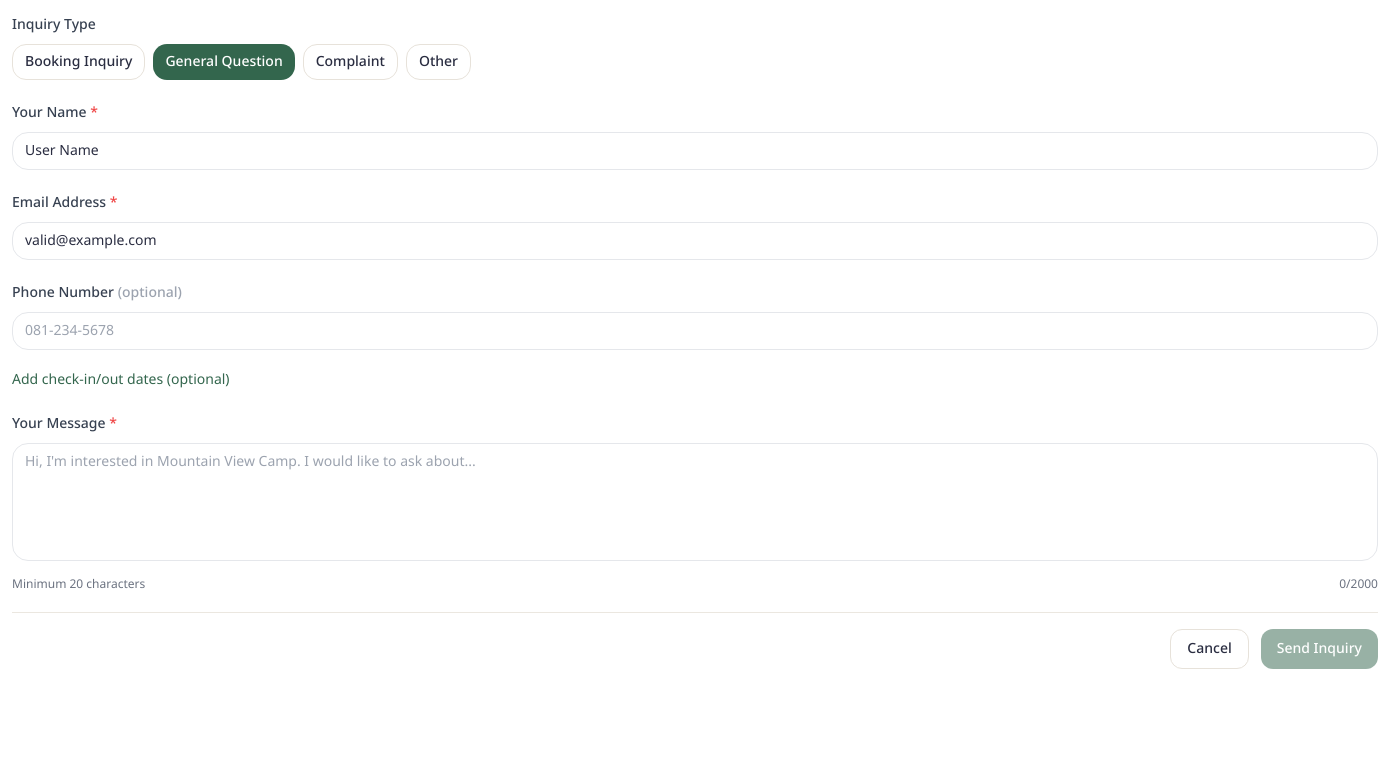
Scenario: InquiryForm - Pre-fill for Logged-in Users › Field editability › should validate edited email field format
// Edit email to invalid format
Replace the text in the field labelled "Email Address *" with "invalid-email" at (695, 241), box [12, 222, 1378, 260]
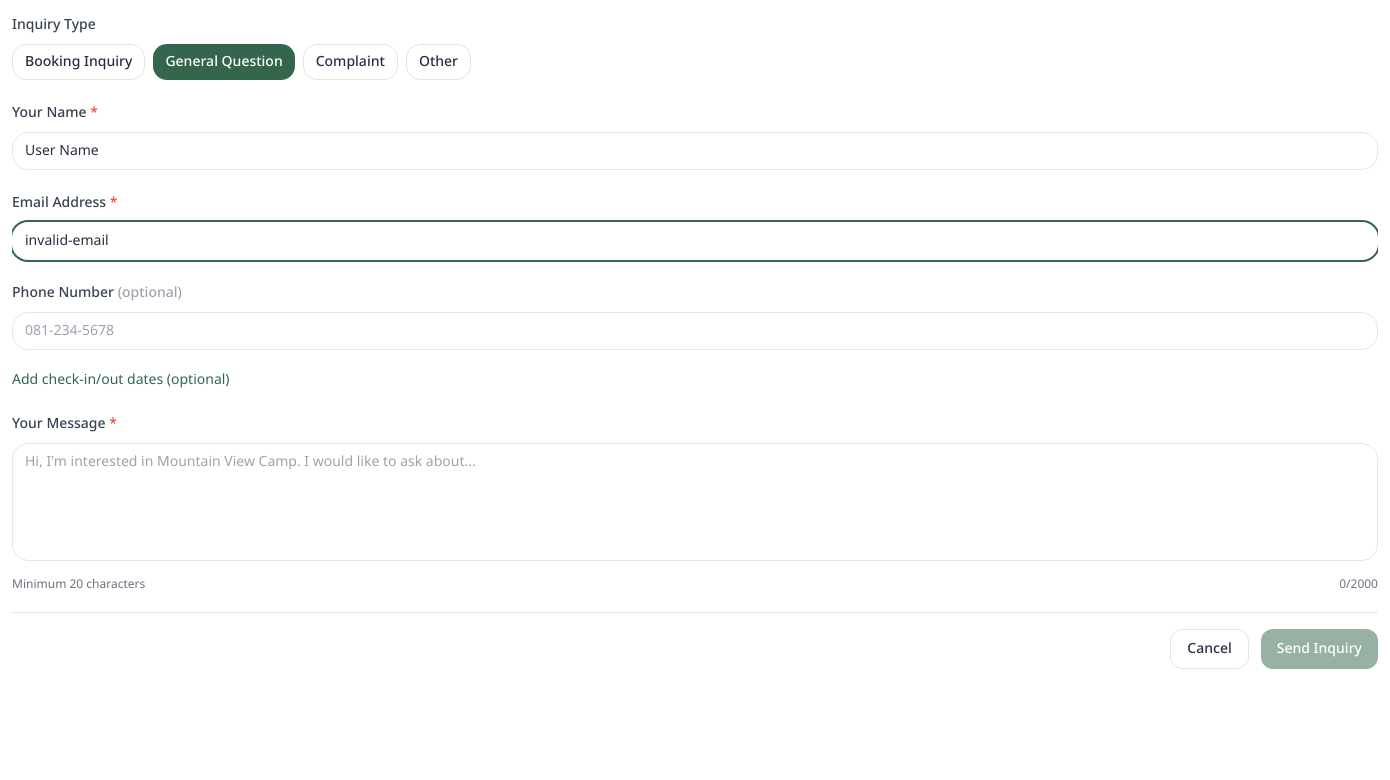
Type "Test message that is long enough to pass validation requirements" into the text box labelled "Your Message *".
click(695, 502); type("Test message that is long enough to pass validation requirements")  # box [12, 443, 1378, 561]
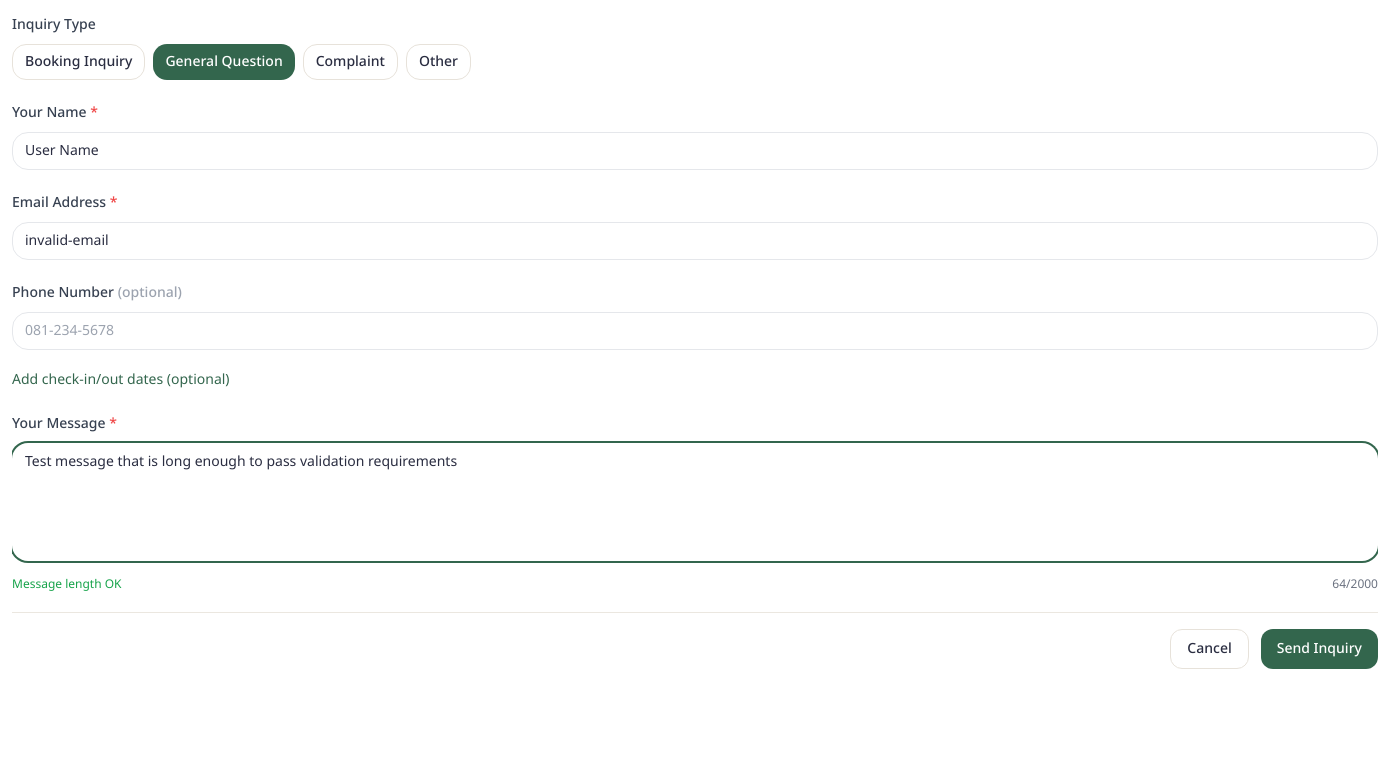
Click the button "Send Inquiry".
click(1319, 649)  # box [1261, 629, 1378, 669]
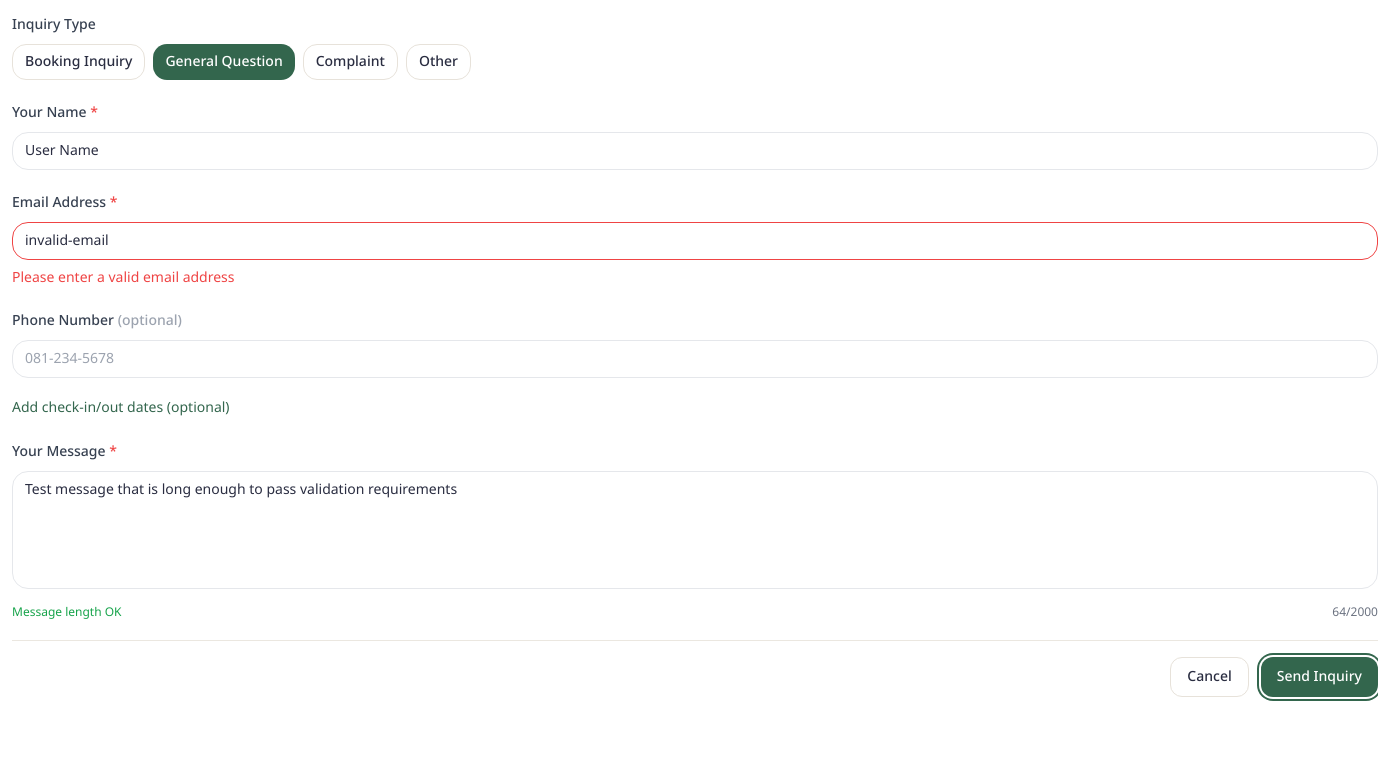
Check: the text "Please enter a valid email address" is shown, box [12, 267, 234, 288]
